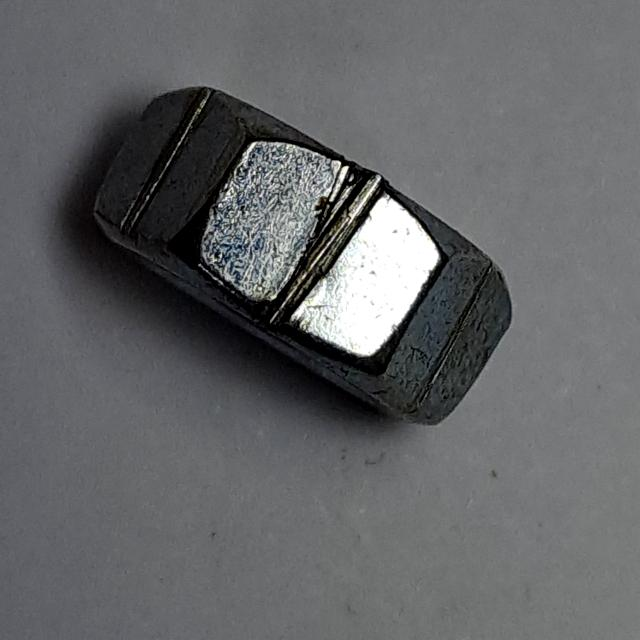Side_Scratches: (83, 57, 528, 444)
